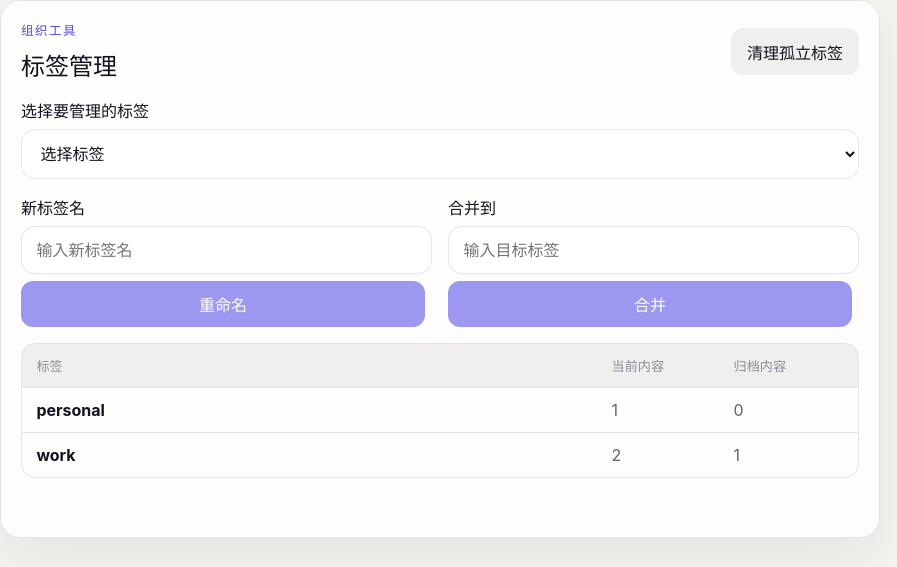
Test: TagManager › renames a selected tag and refreshes data
Step 1. Select "work" in the dropdown named "选择标签" → (440, 154), box 21,129 -> 859,179
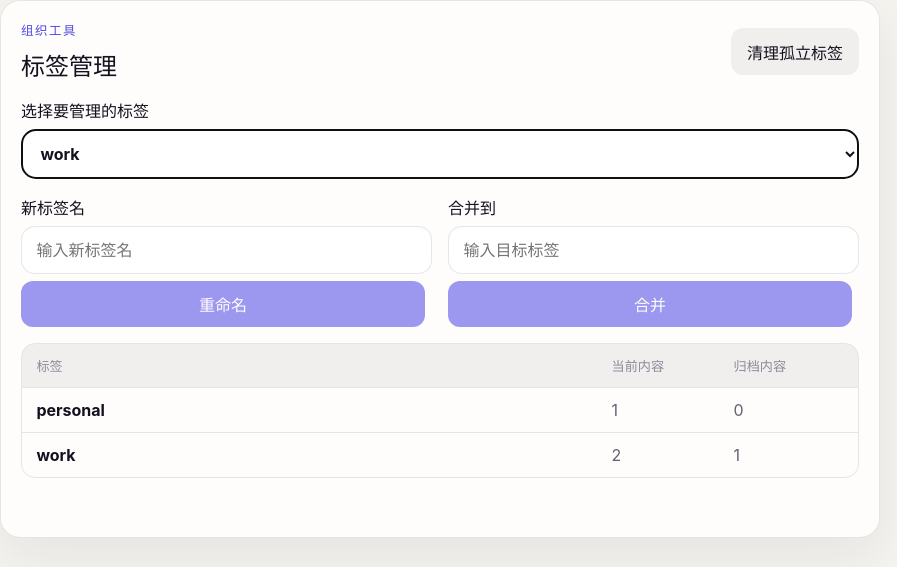
Step 2. Type "project" into the field labelled "新标签名" → (226, 250), box 21,226 -> 432,274
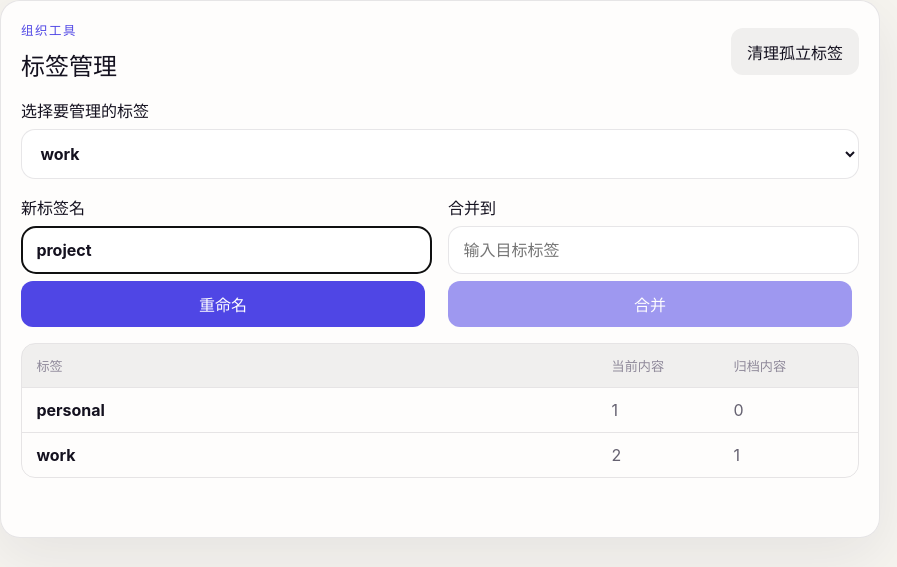
Step 3. Click the button "重命名" → (223, 304), box 21,281 -> 425,327
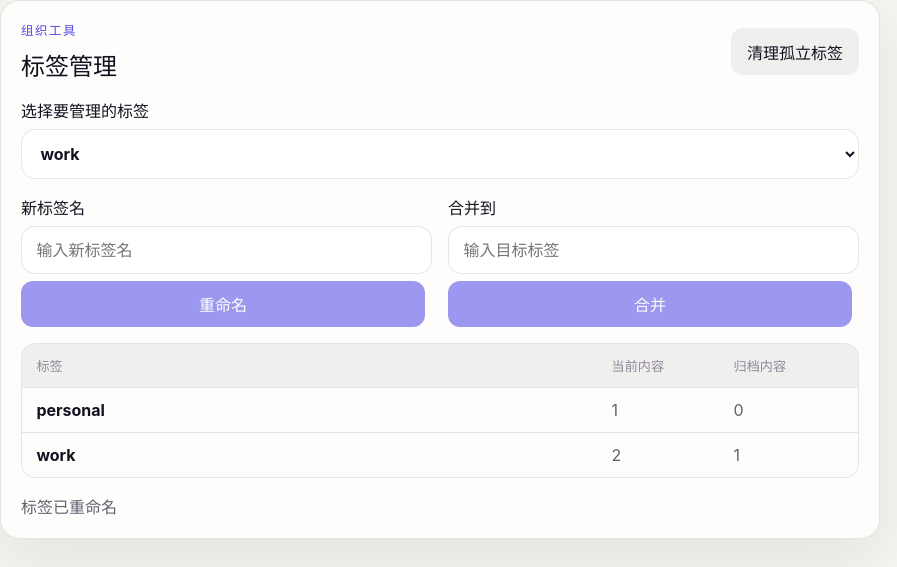
Expected: the text "标签已重命名" is shown, 21,497 -> 117,517
